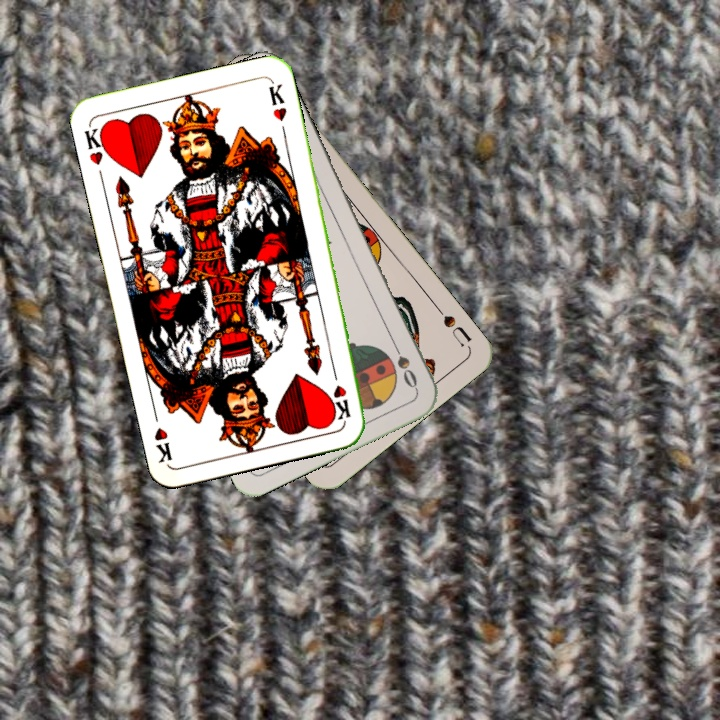HK: (80, 121, 113, 168), (328, 363, 353, 423)
SO: (388, 337, 420, 392)
SU: (430, 300, 474, 350)
